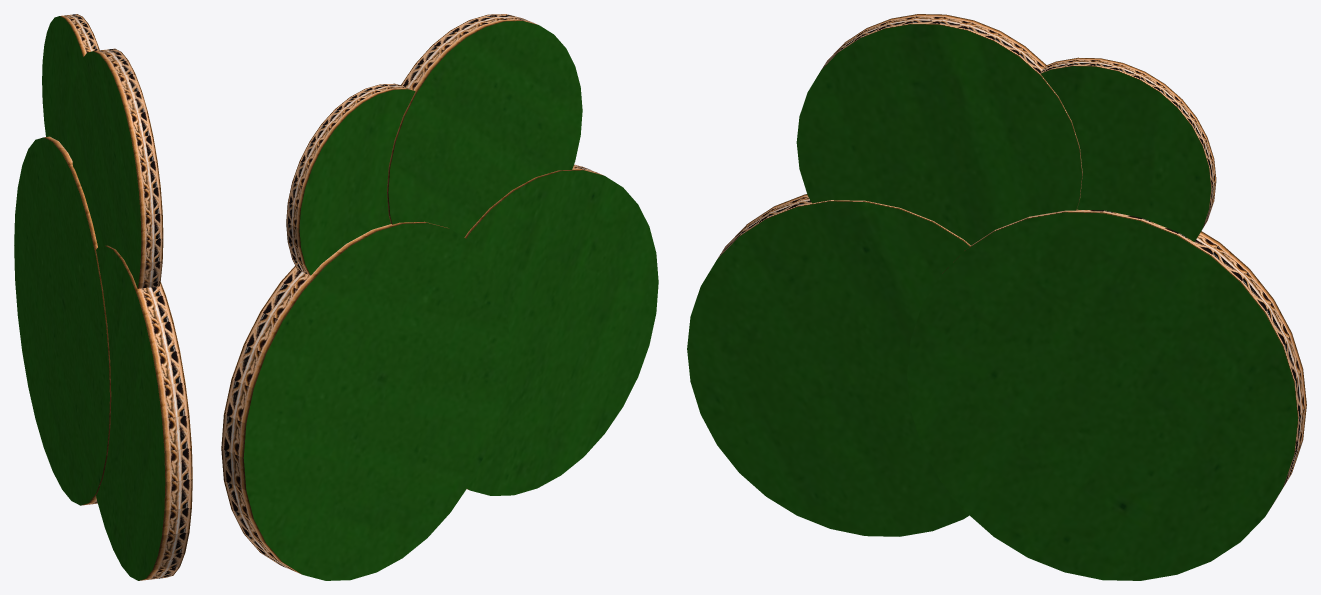
The model's file is kust1.fbx.
The picture shows the model from 3 angles, left to right: view 1: azimuth 30°, elevation 25°; view 2: azimuth 150°, elevation 25°; view 3: azimuth 270°, elevation 25°; orthographic projection. The views are drawn at different scales.
Visible parts, largest first — view 1: kust.006; view 2: kust.006; view 3: kust.006.
Part boxes in pixels (<box>): kust.006: <box>14,14,192,580</box>; kust.006: <box>221,14,658,580</box>; kust.006: <box>687,14,1306,580</box>.
Size of the model in its own units: 956 by 2884 by 3029.
Materials: 2 (2 with a texture image).
